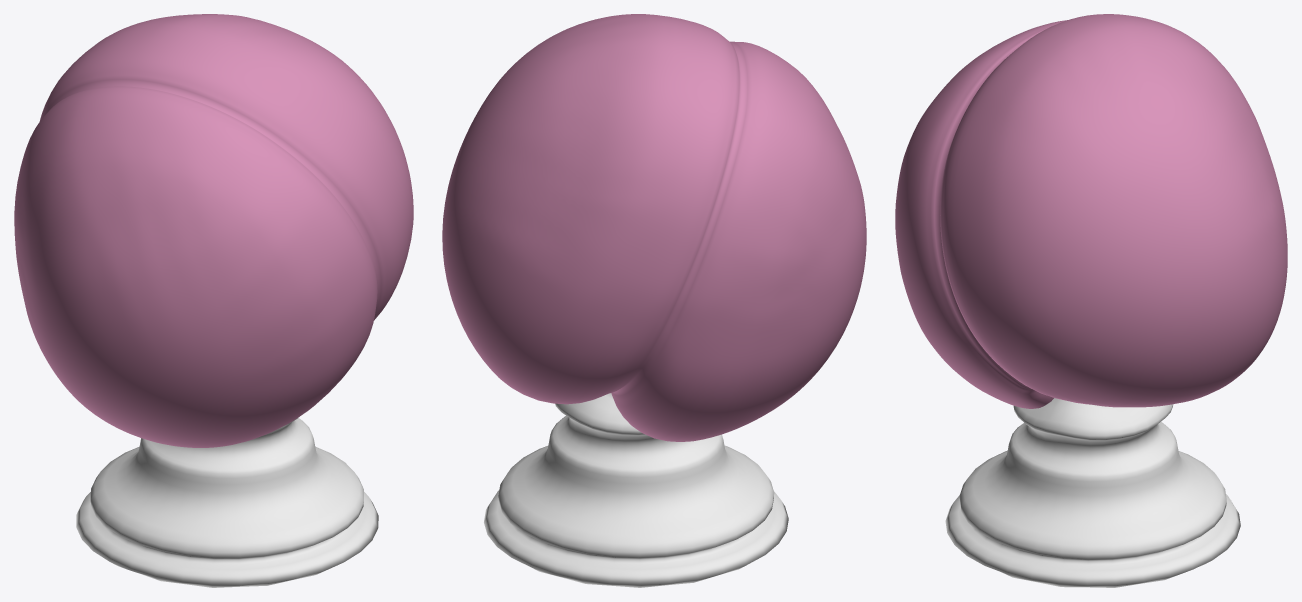
Rendered from MOMO.fbx.
3 renders of one model, left to right at view 1: azimuth 30°, elevation 25°; view 2: azimuth 150°, elevation 25°; view 3: azimuth 270°, elevation 25°, orthographic. The views are drawn at different scales.
Parts seen in each view (by area): view 1: pCylinder21; view 2: pCylinder21; view 3: pCylinder21.
Part boxes in pixels (x1=…): pCylinder21: x1=14, y1=14, x2=413, y2=587; pCylinder21: x1=442, y1=14, x2=866, y2=587; pCylinder21: x1=895, y1=14, x2=1287, y2=587.
Bounding box in the file's own units: 8.87 × 12.1 × 8.65.
